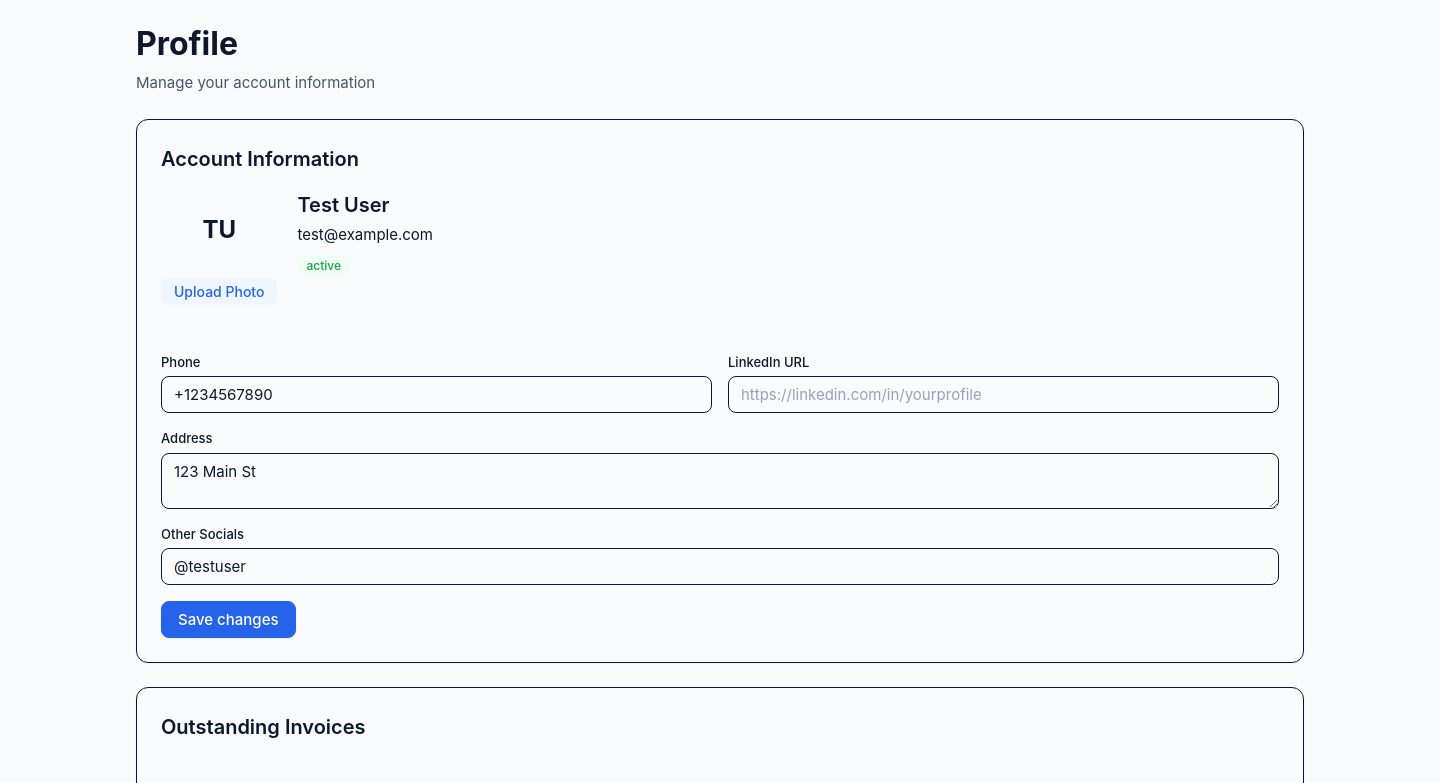
Scenario: ProfilePage › LinkedIn URL validation › shows validation error for invalid LinkedIn URL (no http)
Check: the field showing "+1234567890" below "Phone" is shown, box left=161, top=376, right=712, bottom=413
// Enter invalid URL on first LinkedIn input
Type "linkedin.com/in/user" into the field with placeholder "https://linkedin.com/in/yourprofile" at point(1004, 394), box left=728, top=376, right=1279, bottom=413
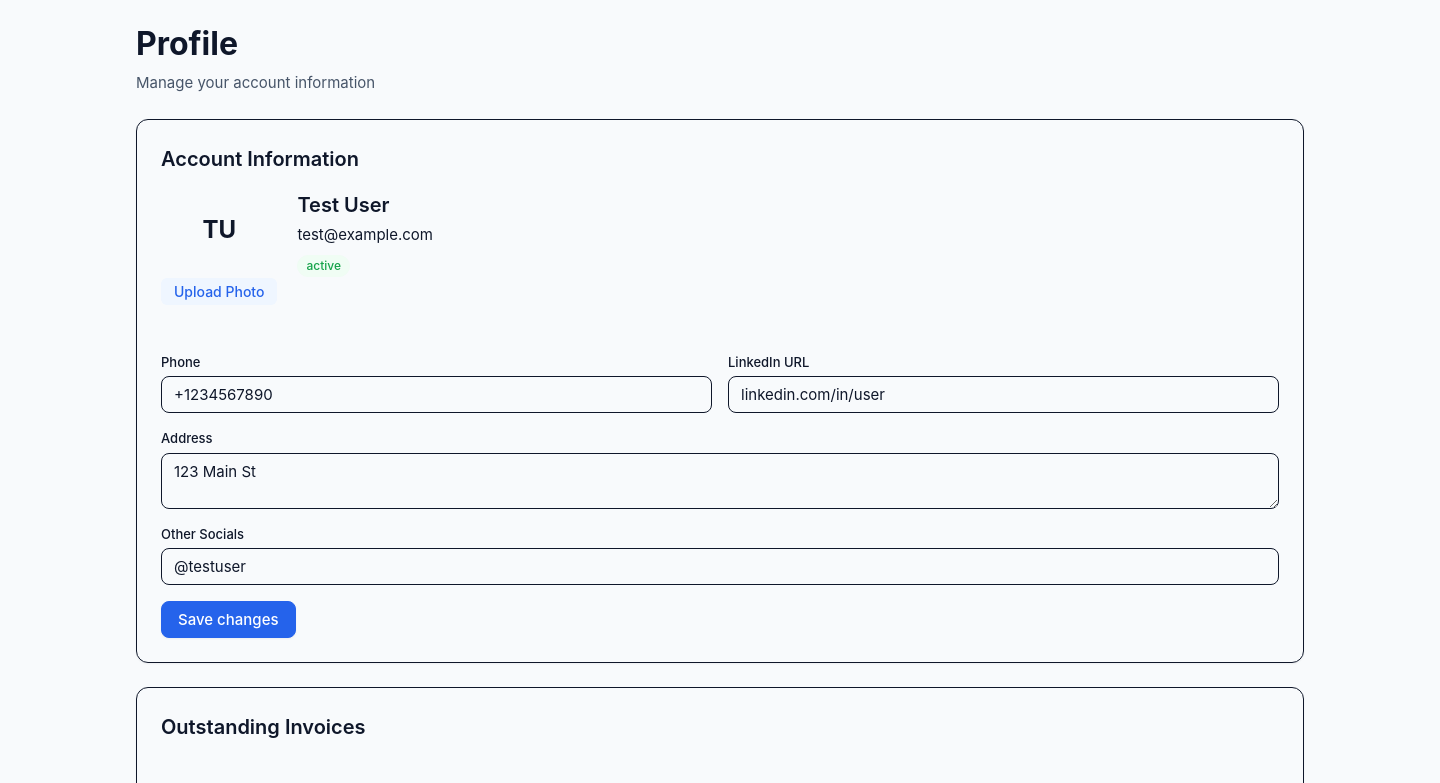
// Try to save
Click the button "Save changes" at point(228, 620), box left=161, top=601, right=296, bottom=638
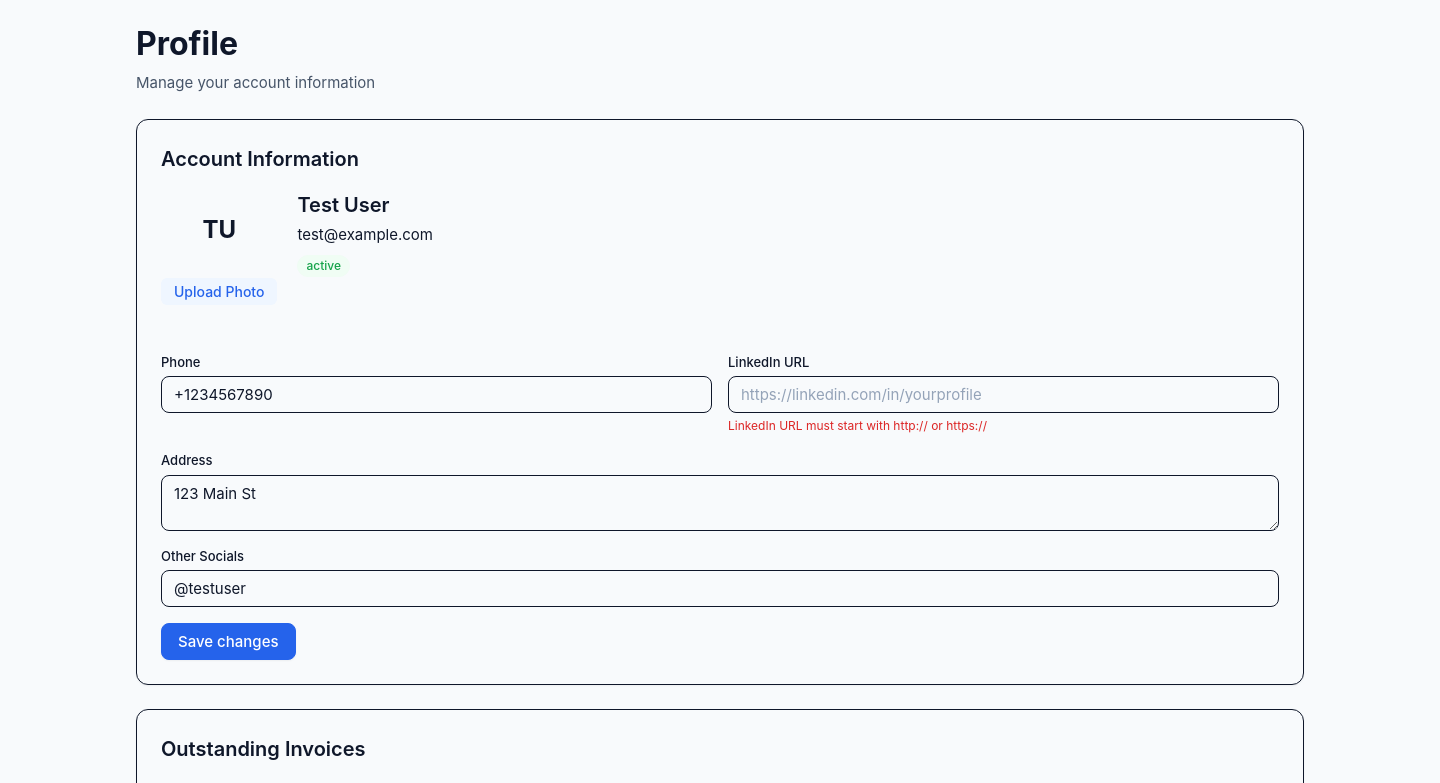
Check: the text "LinkedIn URL must start with http:// or https://" is shown, box left=728, top=418, right=987, bottom=433
